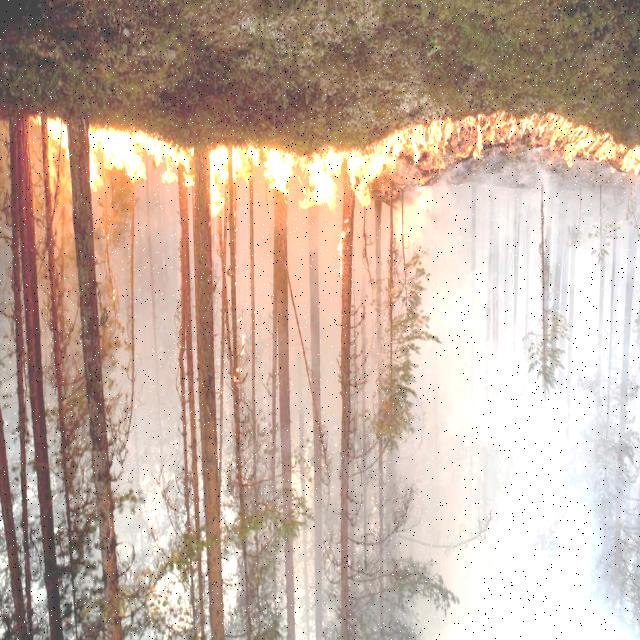api: (453, 118, 640, 171), (210, 149, 346, 221), (359, 124, 443, 208), (90, 134, 188, 190), (46, 115, 74, 161)
asap: (407, 201, 640, 635)
